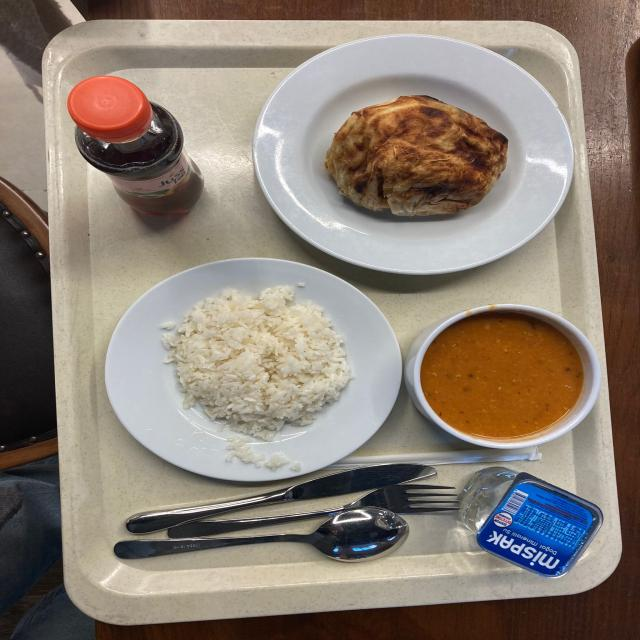ana_yemek: (259, 33, 563, 272), (101, 267, 402, 468)
corba: (407, 306, 592, 448)
